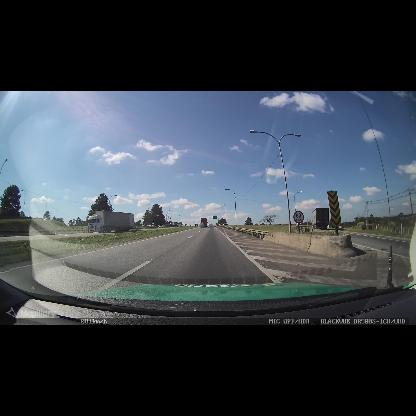O-MP: (327, 191, 341, 226)
R-19: (293, 211, 304, 223), (399, 212, 404, 222)
